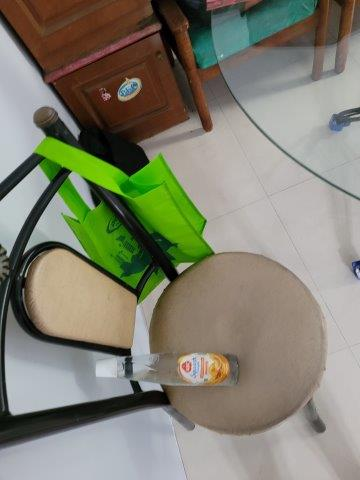botolkaca: (92, 353, 241, 385)
